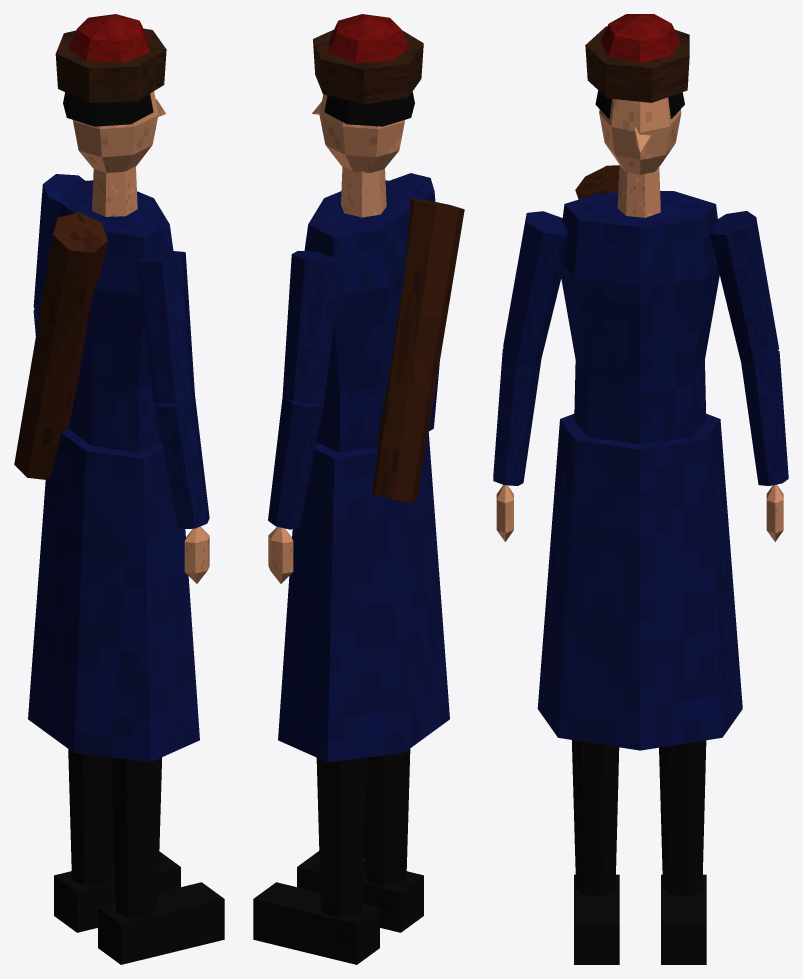
The model's file is jinete_arquero.glb.
The picture shows the model from 3 angles, left to right: view 1: azimuth 30°, elevation 25°; view 2: azimuth 150°, elevation 25°; view 3: azimuth 270°, elevation 25°; orthographic projection.
Parts seen in each view (by area): view 1: faldon, torso, carcaj, pierna_der, brazo_der, pie_der, pierna_izq, gorro, antebrazo_der, cabeza, pie_izq, gorro_2 (+4 smaller); view 2: faldon, torso, carcaj, pierna_izq, brazo_izq, pie_izq, pierna_der, gorro, antebrazo_izq, cabeza, pie_der, gorro_2 (+4 smaller); view 3: faldon, torso, pierna_der, brazo_izq, pierna_izq, brazo_der, gorro, cabeza, antebrazo_izq, antebrazo_der, pie_izq, pie_der (+5 smaller).
Boxes of the visible parts, bbox=[...] form: faldon: bbox=[28, 429, 199, 762]; torso: bbox=[60, 180, 173, 452]; carcaj: bbox=[14, 212, 107, 479]; pierna_der: bbox=[111, 757, 161, 917]; brazo_der: bbox=[135, 250, 194, 403]; pie_der: bbox=[98, 882, 224, 964]; pierna_izq: bbox=[68, 749, 114, 885]; gorro: bbox=[55, 28, 166, 102]; antebrazo_der: bbox=[154, 395, 209, 529]; cabeza: bbox=[73, 91, 165, 172]; pie_izq: bbox=[54, 851, 180, 932]; gorro_2: bbox=[68, 14, 149, 62]; faldon: bbox=[278, 430, 449, 762]; torso: bbox=[304, 180, 414, 452]; carcaj: bbox=[371, 198, 464, 502]; pierna_izq: bbox=[316, 757, 366, 918]; brazo_izq: bbox=[282, 251, 342, 403]; pie_izq: bbox=[253, 882, 379, 964]; pierna_der: bbox=[364, 749, 410, 885]; gorro: bbox=[313, 29, 423, 104]; antebrazo_izq: bbox=[268, 396, 323, 529]; cabeza: bbox=[312, 94, 404, 172]; pie_der: bbox=[297, 851, 423, 932]; gorro_2: bbox=[328, 14, 409, 62]; faldon: bbox=[537, 413, 742, 750]; torso: bbox=[561, 191, 719, 444]; pierna_der: bbox=[572, 740, 619, 896]; brazo_izq: bbox=[710, 211, 778, 363]; pierna_izq: bbox=[659, 740, 706, 896]; brazo_der: bbox=[503, 211, 568, 363]; gorro: bbox=[585, 26, 689, 102]; cabeza: bbox=[599, 97, 681, 174]; antebrazo_izq: bbox=[741, 350, 788, 485]; antebrazo_der: bbox=[493, 349, 541, 485]; pie_izq: bbox=[661, 874, 706, 964]; pie_der: bbox=[574, 874, 619, 964].
Bounding box in the file's own units: 0.3 × 1.7 × 0.5.
1 material, 1 textured.
